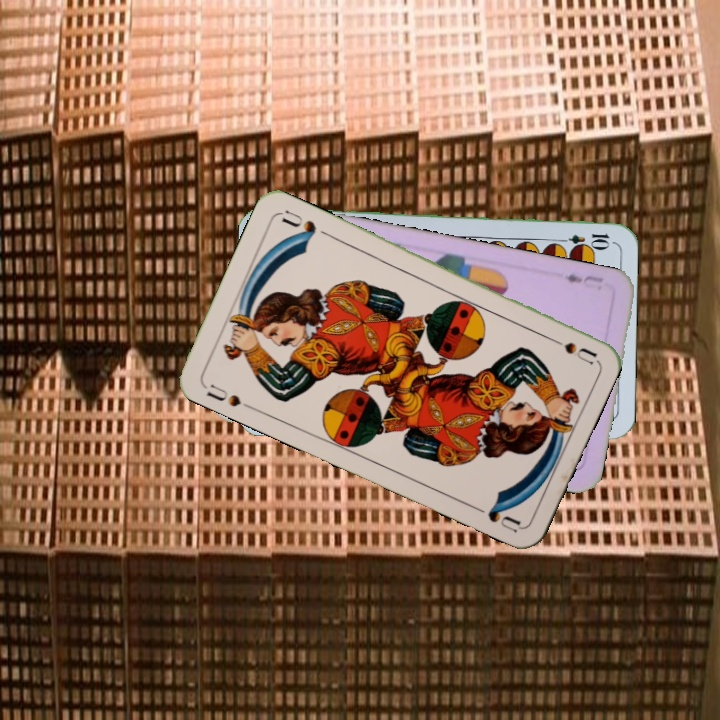E10: (553, 229, 612, 248)
EU: (560, 269, 606, 289)
SU: (541, 331, 599, 367), (202, 380, 244, 410)
